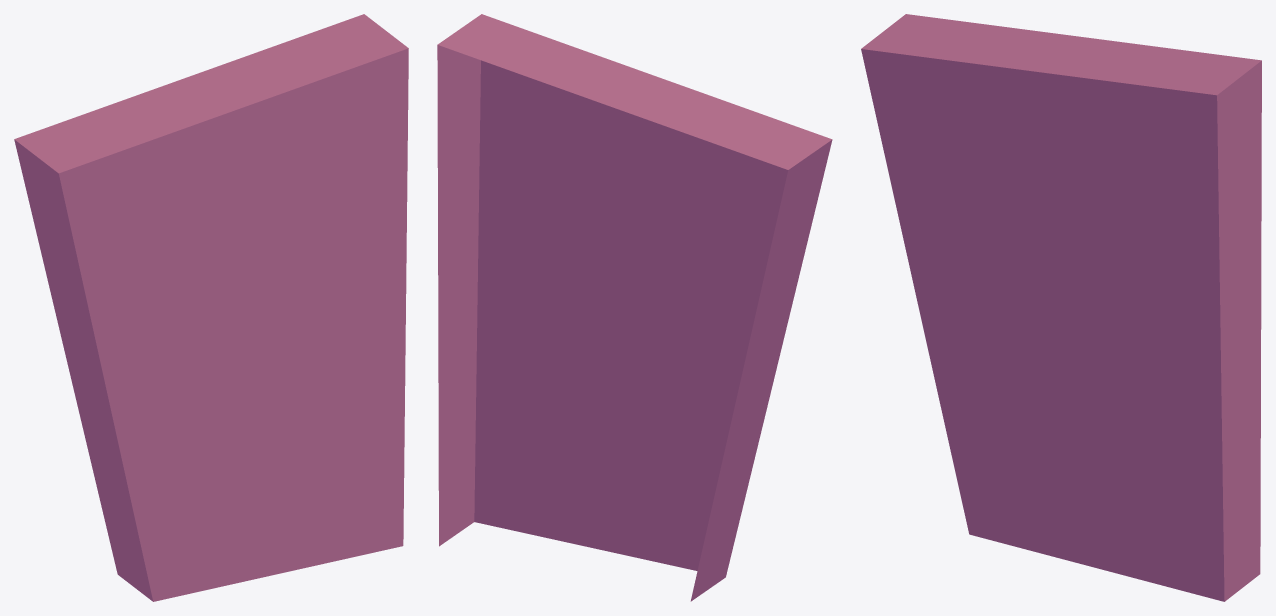
The model's file is Module_Rock_Mesh_01_v01.fbx.
The picture shows the model from 3 angles, left to right: view 1: azimuth 30°, elevation 25°; view 2: azimuth 150°, elevation 25°; view 3: azimuth 330°, elevation 25°; orthographic projection.
Visible parts, largest first — view 1: Module_Rock_Mesh_01_v01; view 2: Module_Rock_Mesh_01_v01; view 3: Module_Rock_Mesh_01_v01.
Boxes of the visible parts, <box> form: Module_Rock_Mesh_01_v01: <box>14,14,408,601</box>; Module_Rock_Mesh_01_v01: <box>437,14,832,601</box>; Module_Rock_Mesh_01_v01: <box>861,14,1261,601</box>.
Bounding box in the file's own units: 204 × 280 × 44.76.
